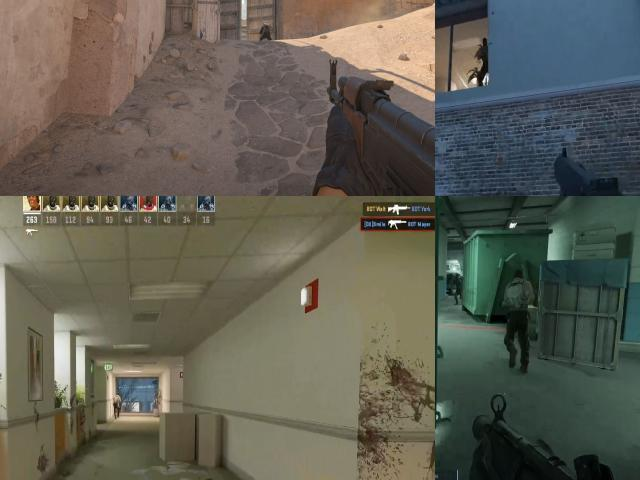CT: (260, 22, 273, 40)
CT-Head: (262, 23, 266, 27)
T: (502, 265, 533, 322), (476, 36, 491, 78), (112, 393, 123, 415)
T-Head: (511, 268, 526, 284), (479, 36, 488, 52), (115, 392, 121, 399)
